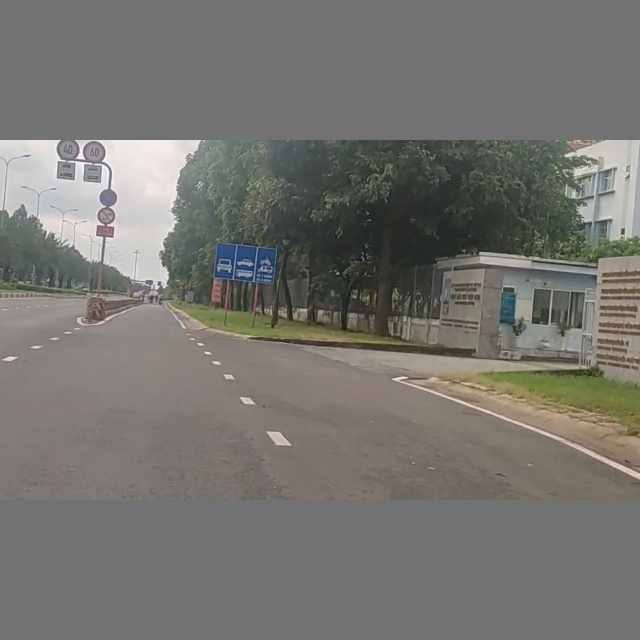P.111: (95, 207, 117, 225)
P.127*40: (56, 141, 79, 159)
P.127*60: (83, 141, 107, 161)
P.130: (98, 187, 119, 205)
R.415a: (213, 240, 277, 284)
